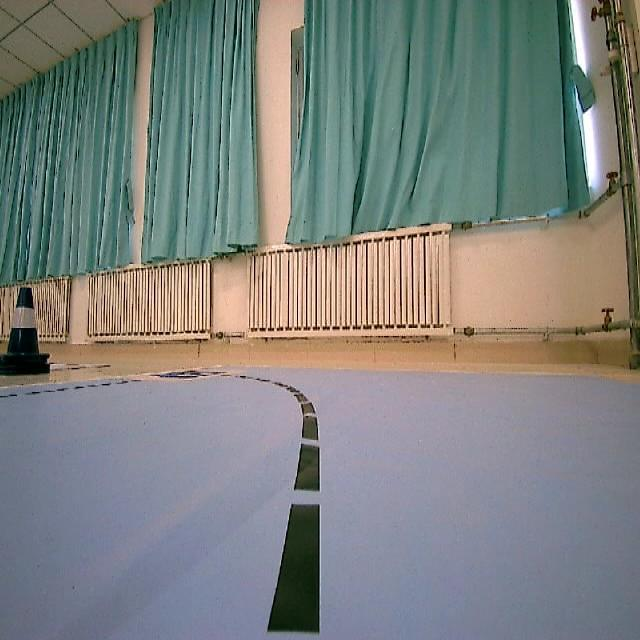obstacle: (0, 282, 46, 384)
